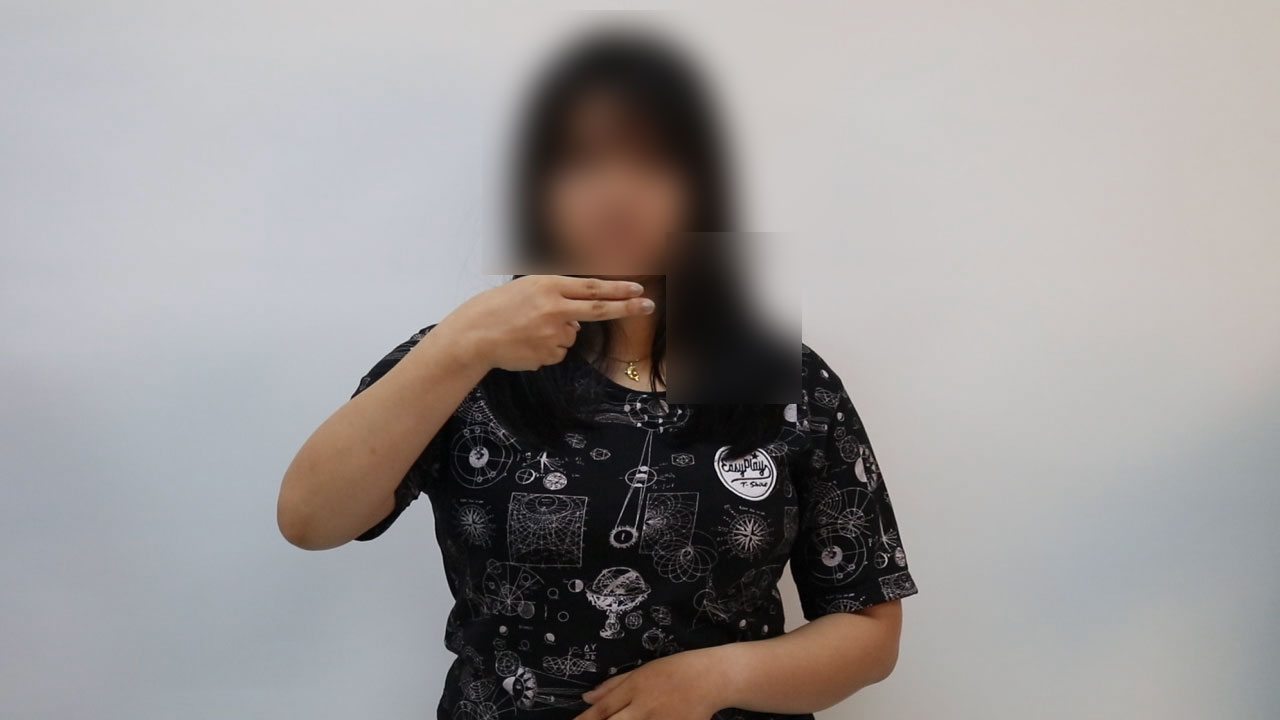hor: (440, 262, 674, 381)
